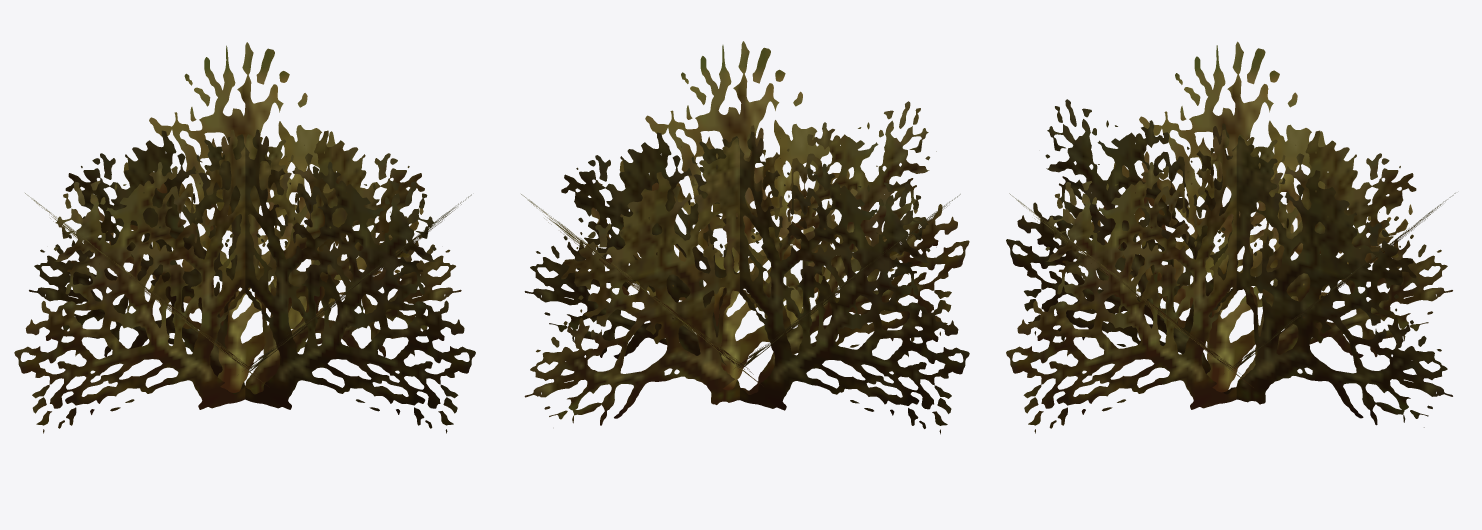
Rendered from M2_Shrub1.glb.
3 renders of one model, left to right at view 1: azimuth 30°, elevation 25°; view 2: azimuth 150°, elevation 25°; view 3: azimuth 270°, elevation 25°, orthographic.
Visible parts, largest first — view 1: M2_SHRUB1; view 2: M2_SHRUB1; view 3: M2_SHRUB1.
Boxes of the visible parts, x1,y1,x2,y2 form: M2_SHRUB1: (14, 42, 475, 433); M2_SHRUB1: (521, 41, 969, 434); M2_SHRUB1: (1006, 41, 1455, 433).
Size of the model in its own units: 2.42 by 1.39 by 2.12.
Materials: 1 (1 with a texture image).
